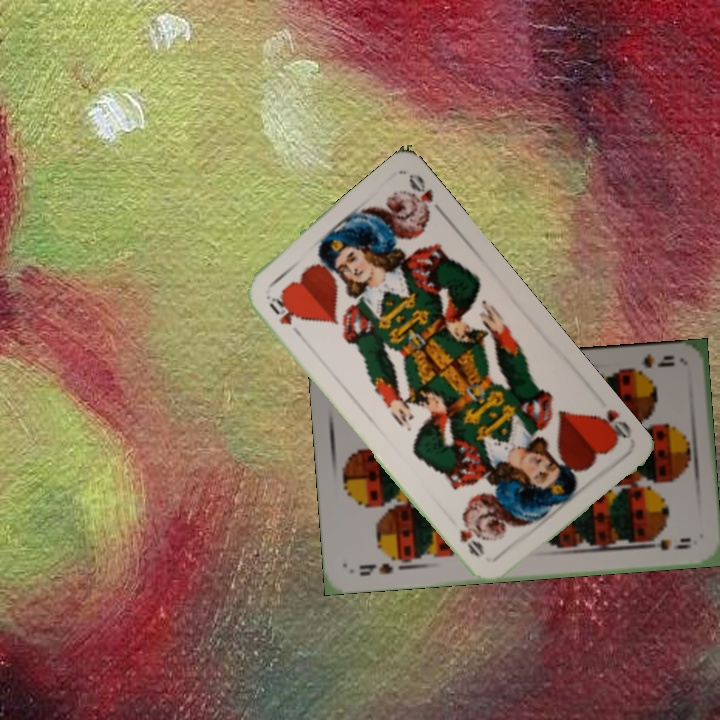HO: (261, 290, 305, 340), (589, 405, 634, 447)
S9: (624, 350, 677, 378), (355, 559, 396, 578)
